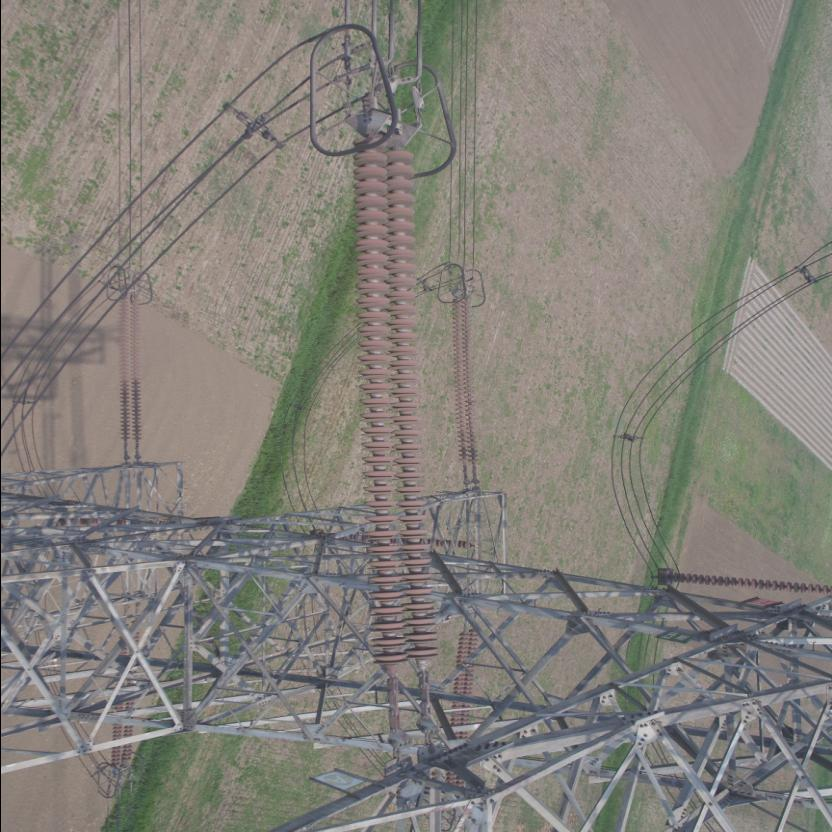insulator: (350, 125, 447, 708), (450, 286, 491, 468), (118, 286, 146, 452)
